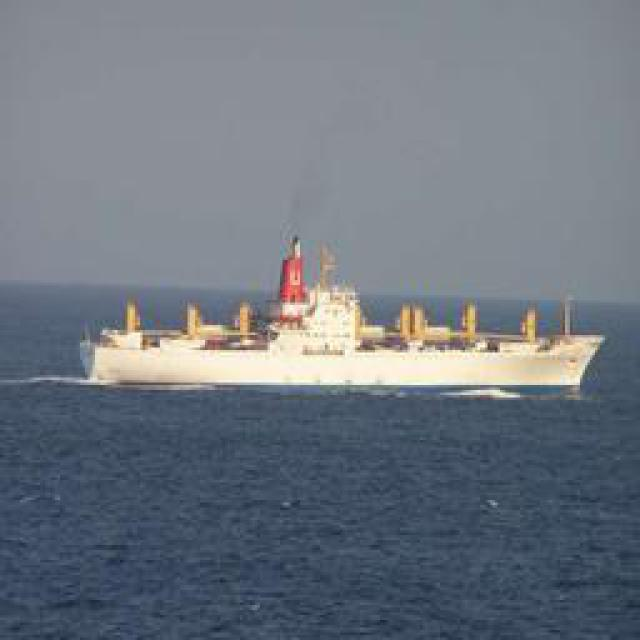Ship: (85, 301, 605, 394)
